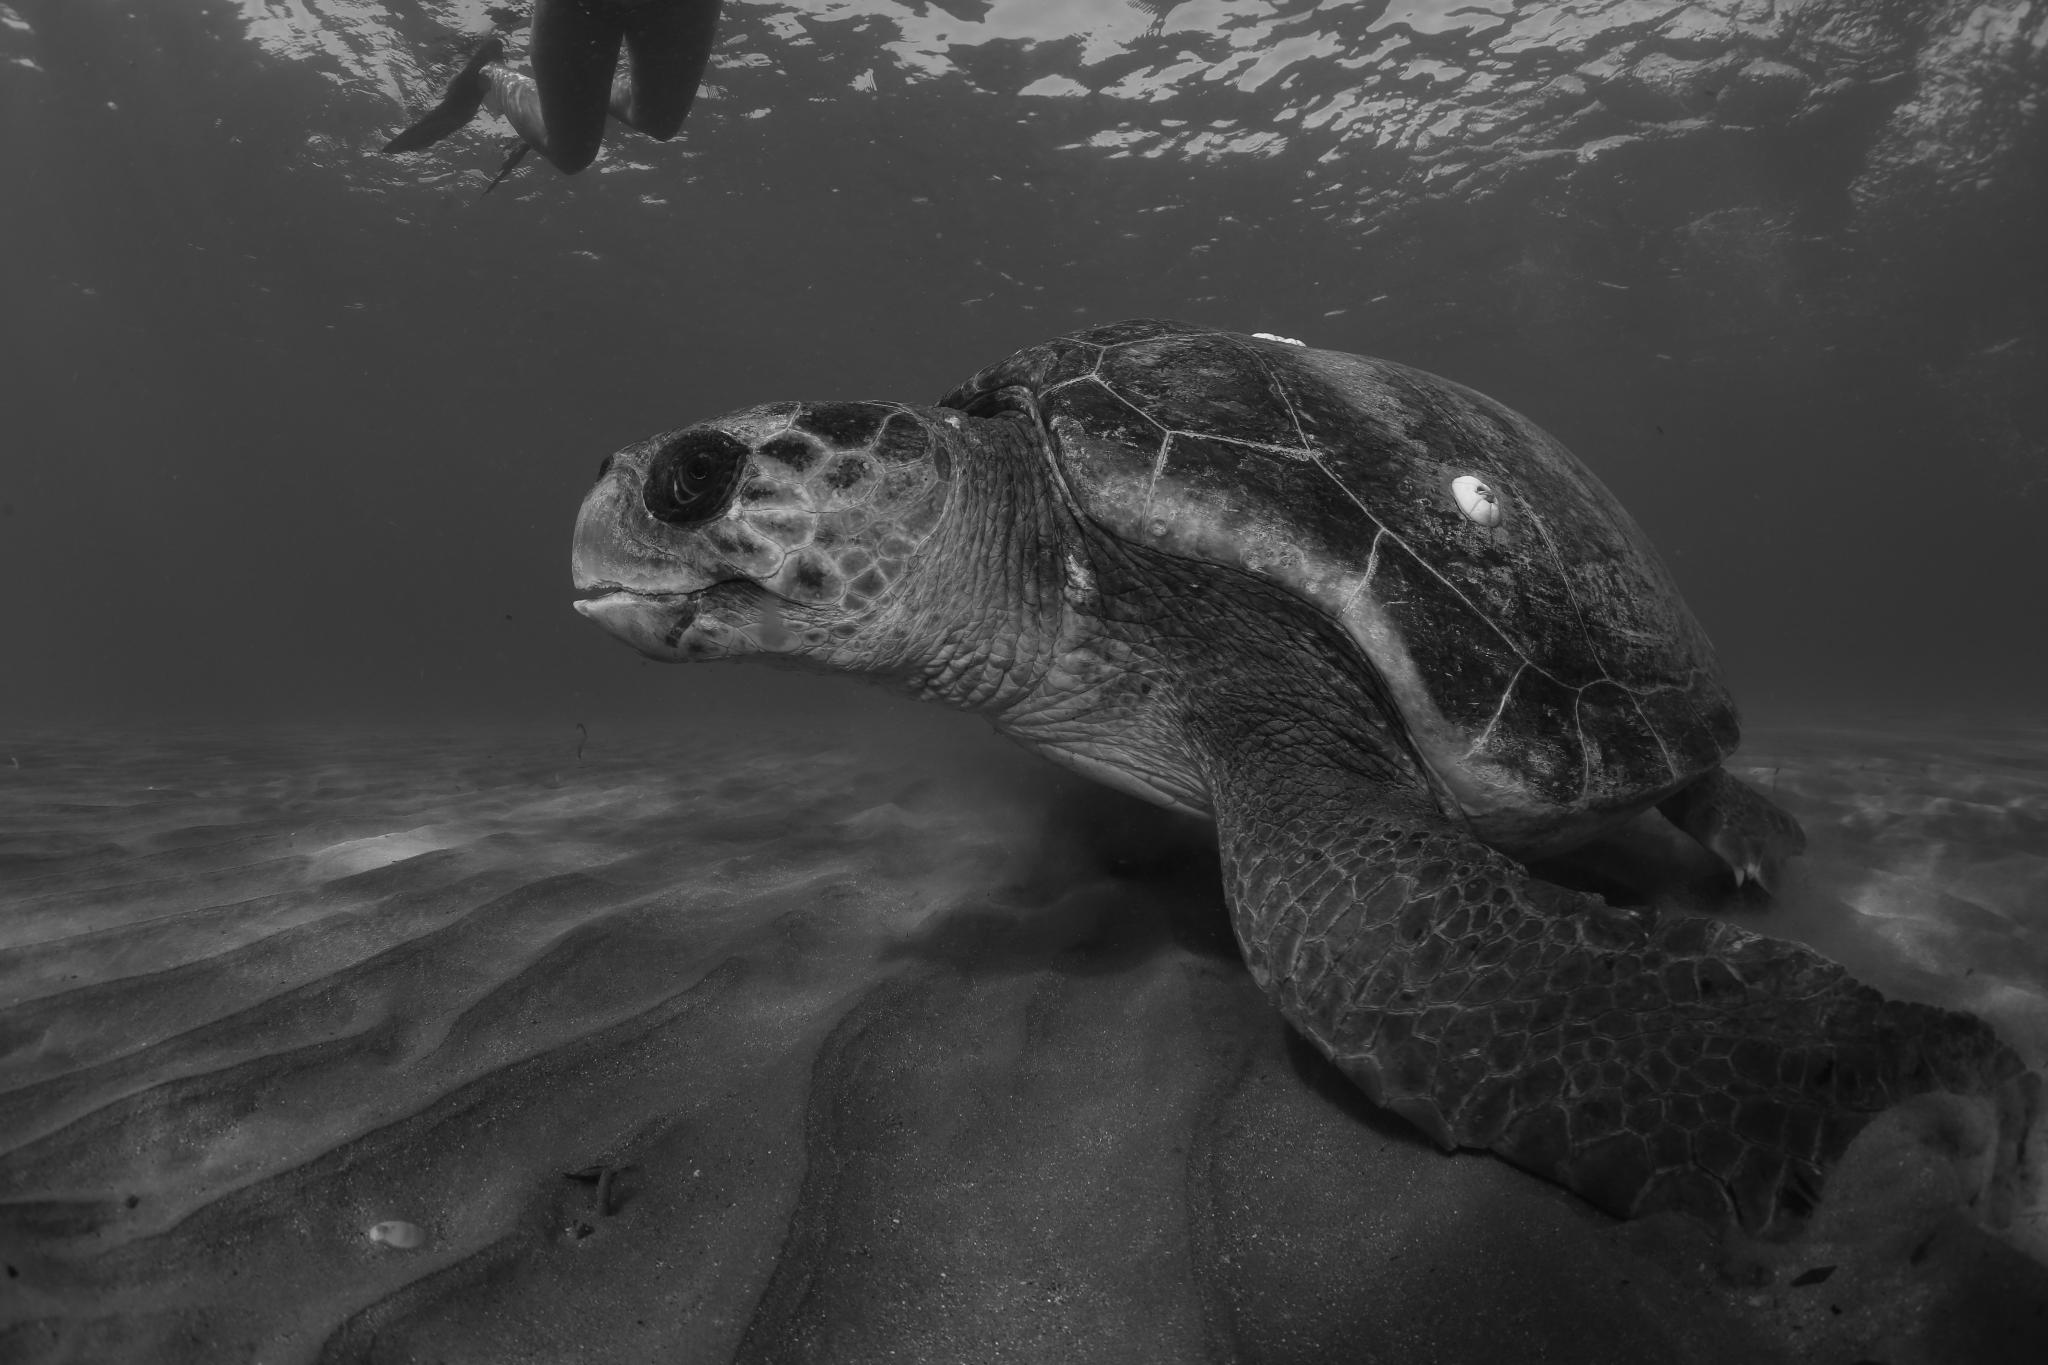Head: (572, 402, 983, 698)
